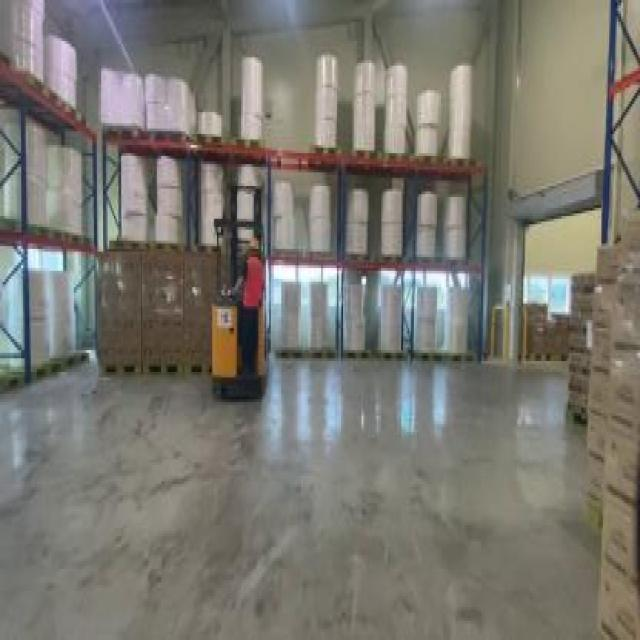box: (583, 211, 639, 637), (89, 249, 234, 377), (563, 271, 597, 421), (522, 306, 572, 358)
person: (237, 232, 265, 383)
robot: (211, 172, 271, 400)
white_roll: (3, 120, 49, 236), (8, 260, 44, 372), (2, 3, 49, 82), (48, 137, 82, 240), (148, 66, 198, 136), (155, 153, 191, 249), (119, 153, 152, 254), (96, 71, 144, 137), (46, 271, 80, 361), (313, 58, 342, 158), (237, 156, 265, 249), (274, 279, 306, 358), (240, 49, 266, 145), (354, 60, 378, 162), (449, 57, 471, 167), (48, 35, 78, 115), (377, 279, 405, 361), (440, 290, 471, 364), (199, 162, 226, 246), (383, 60, 405, 162), (306, 279, 334, 358), (414, 282, 440, 366), (342, 282, 369, 356), (346, 186, 371, 265), (380, 188, 406, 262), (308, 178, 330, 260), (417, 93, 440, 167), (271, 180, 295, 249), (446, 194, 466, 268), (417, 194, 437, 263), (194, 106, 228, 140)
